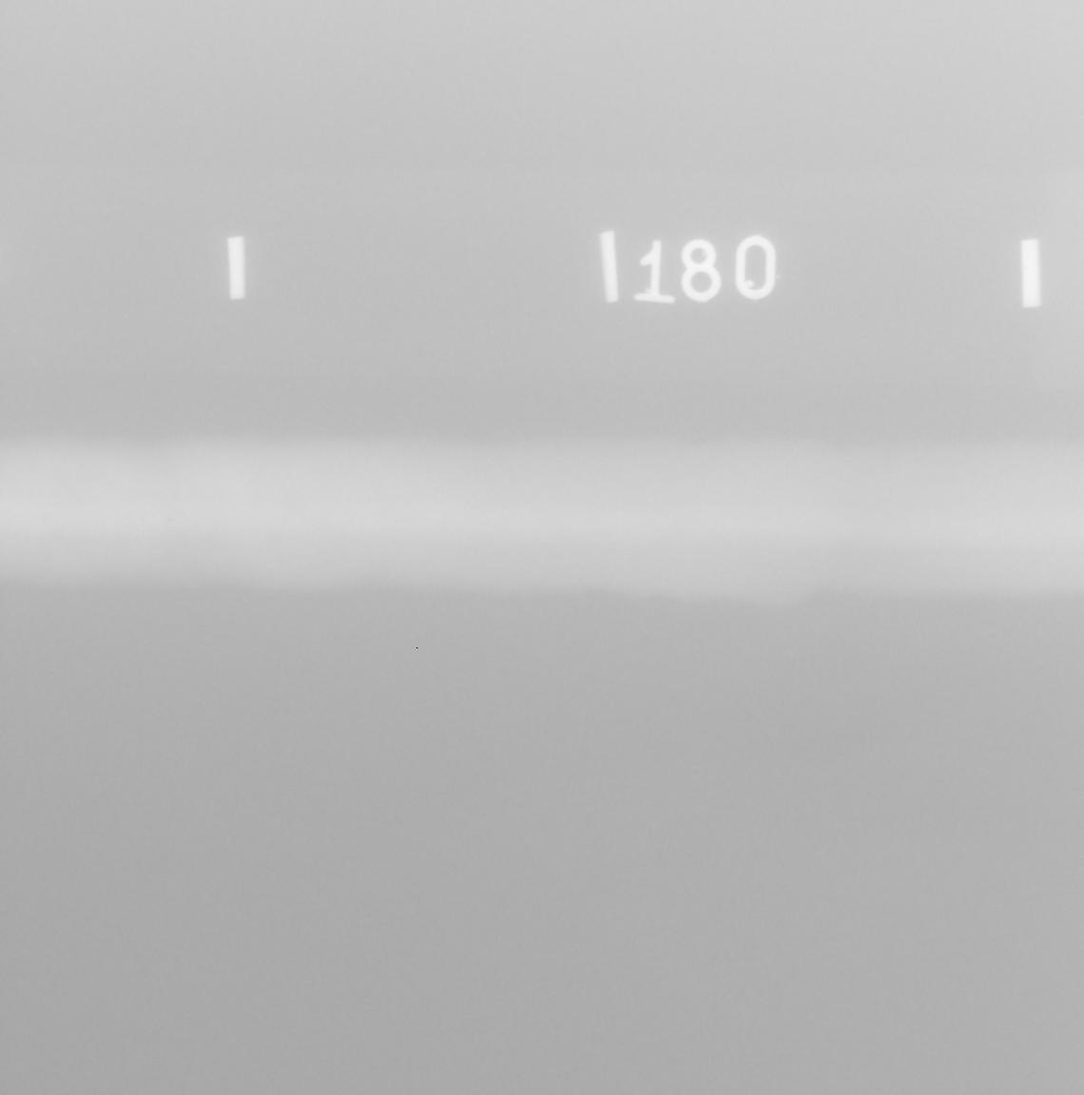Pore/Porosity: (34, 509, 50, 523), (161, 511, 178, 523)
